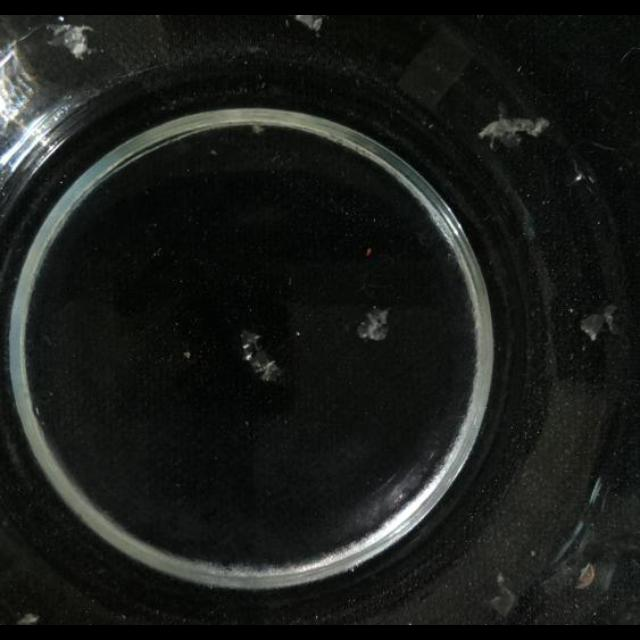Fibre: (480, 112, 548, 148), (240, 330, 282, 382), (46, 22, 96, 58), (581, 306, 619, 340), (356, 308, 390, 342), (490, 578, 518, 618), (567, 158, 593, 188), (294, 15, 324, 33), (16, 613, 40, 625), (252, 124, 266, 134)
microbeads: (576, 563, 596, 589)
